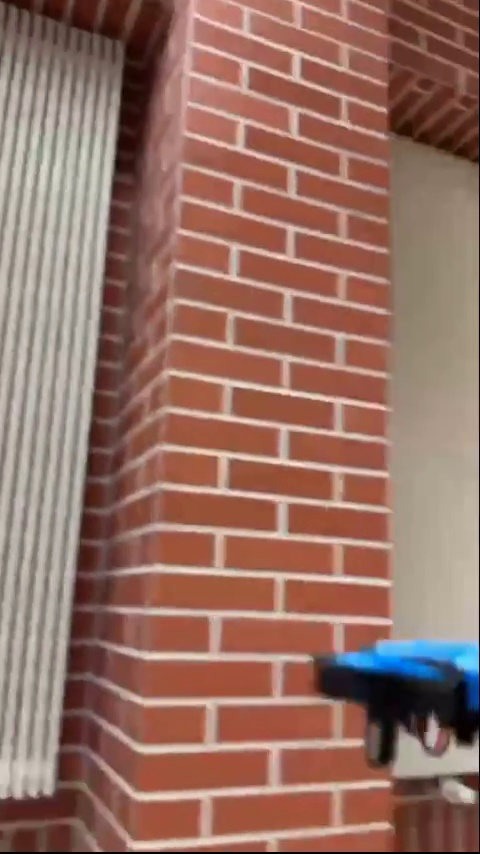drone: (310, 634, 480, 769)
